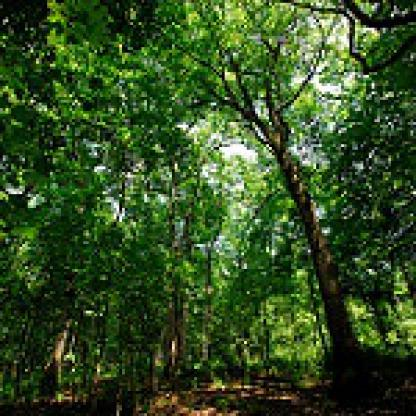tree: (149, 0, 375, 389)
trunk: (266, 131, 364, 378), (166, 166, 186, 380)
